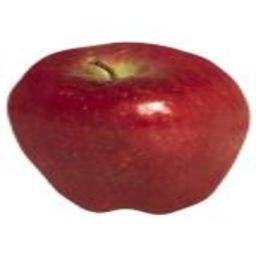apple: (6, 42, 249, 213)
